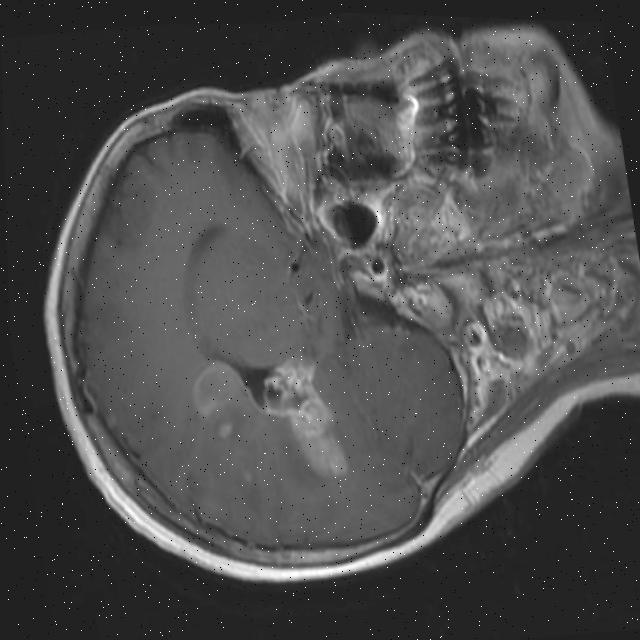Glioma: (255, 351, 352, 487), (185, 355, 246, 420)
